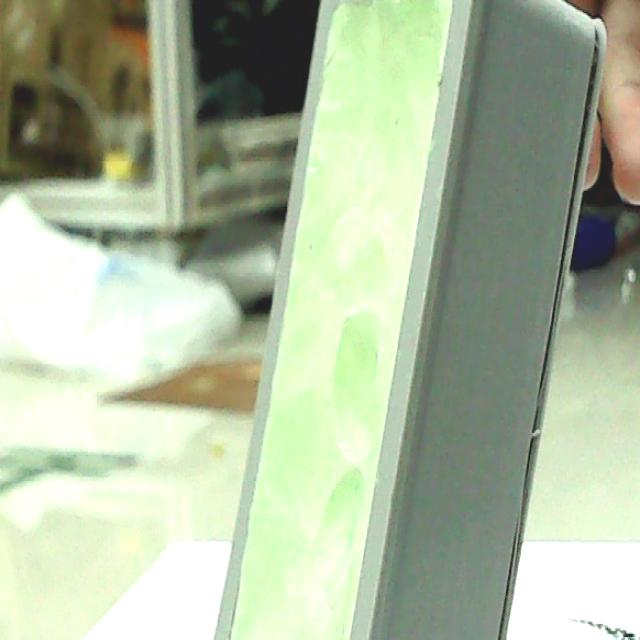block: (194, 0, 607, 640)
